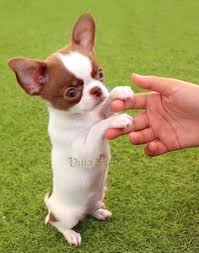chihuahua: (2, 6, 135, 239)
